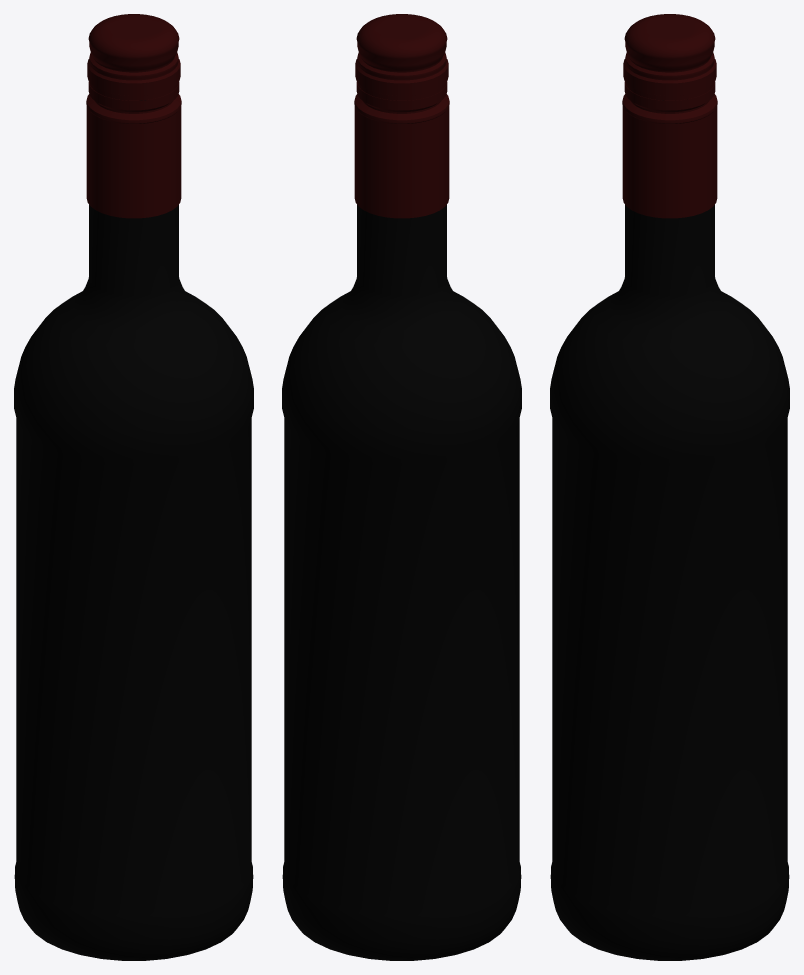
File: wine_bottle.glb
The picture shows the model from 3 angles, left to right: view 1: azimuth 30°, elevation 25°; view 2: azimuth 150°, elevation 25°; view 3: azimuth 270°, elevation 25°; orthographic projection.
Visible parts, largest first — view 1: WineBottle; view 2: WineBottle; view 3: WineBottle.
Boxes of the visible parts, x1,y1,x2,y2 form: WineBottle: [14, 14, 253, 960]; WineBottle: [282, 14, 521, 960]; WineBottle: [550, 14, 789, 960].
Bounding box in the file's own units: 1.05 × 4.35 × 1.06.
1 material, 1 textured.
